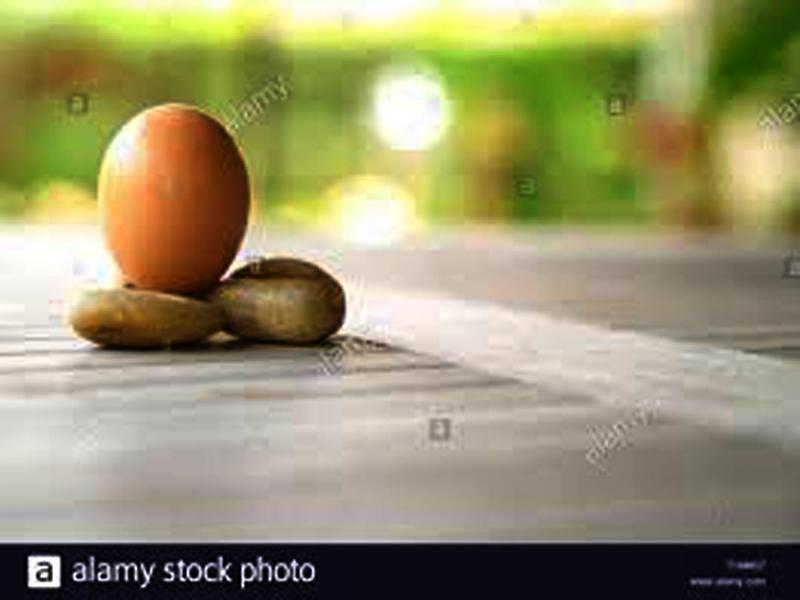Eggs: (95, 106, 250, 294)
